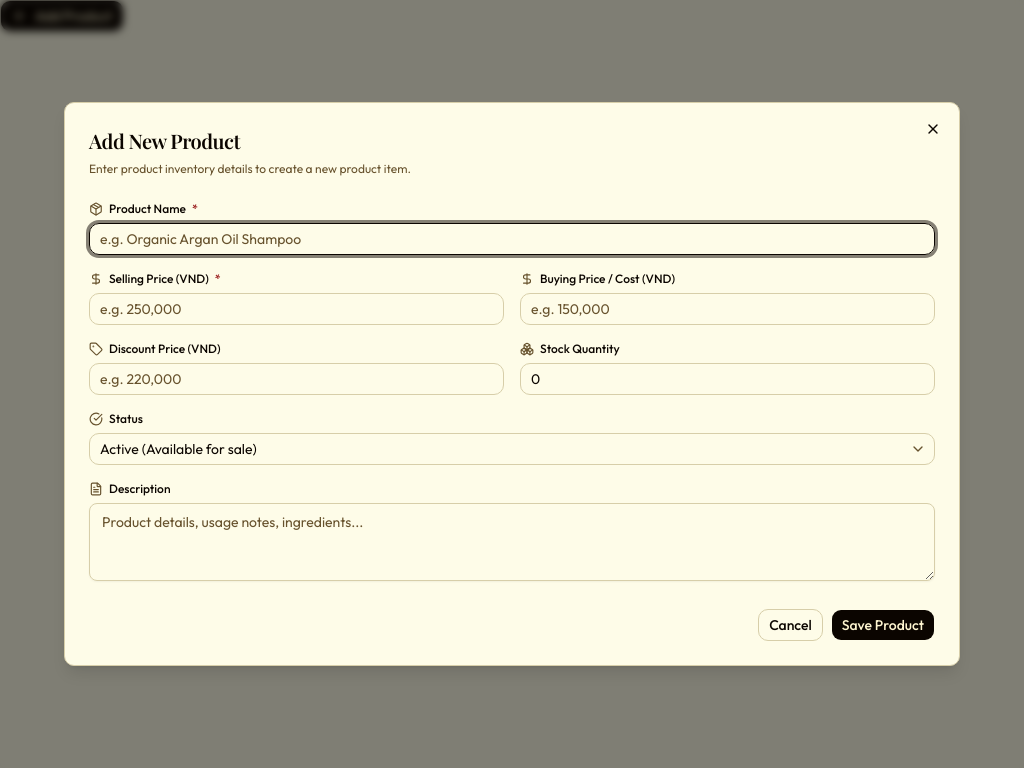
Test: ProductFormDialog - Create Mode › validates quantity must be a non-negative integer
In the field labelled "Product Name *": {"x": 512, "y": 239} [89,223,935,255], type "Hair Styling Gel"
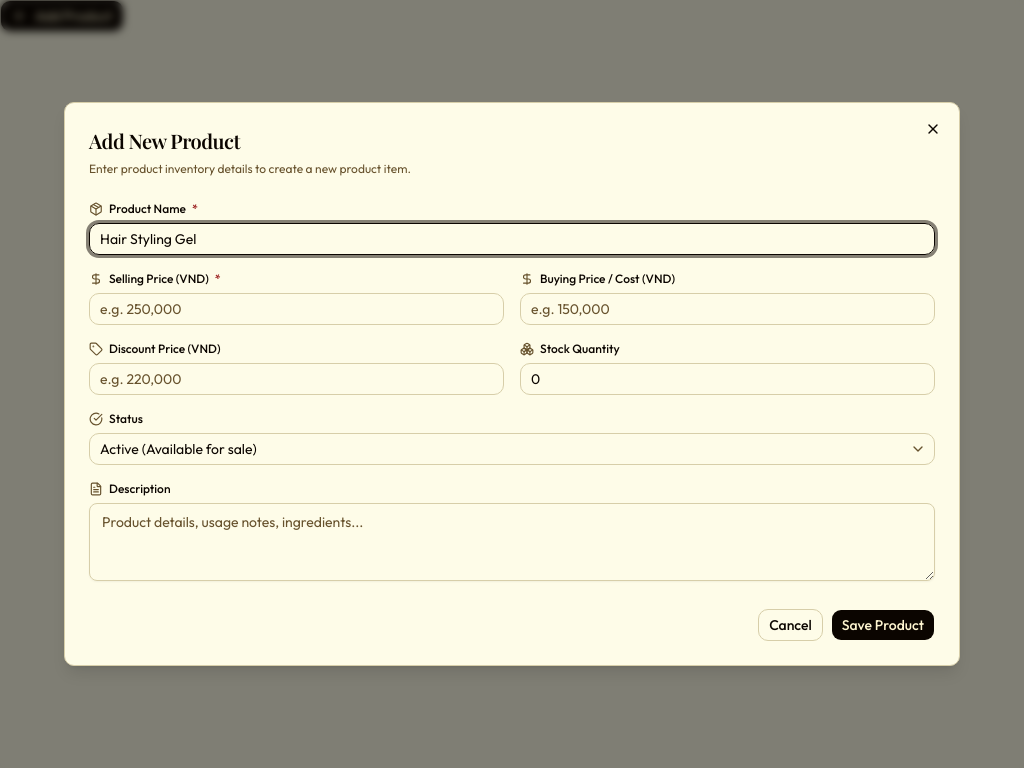
In the field labelled "Selling Price (VND) *": {"x": 296, "y": 309} [89,293,504,325], type "100000"
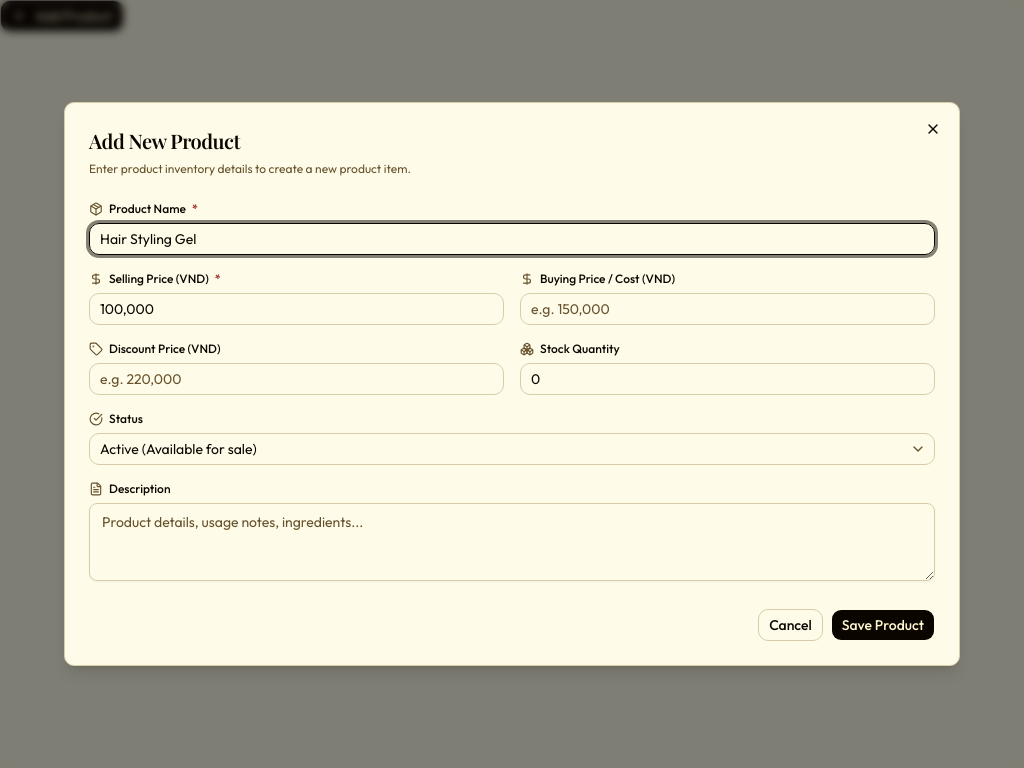
In the number field labelled "Stock Quantity": {"x": 728, "y": 379} [520,363,935,395], type "-5"
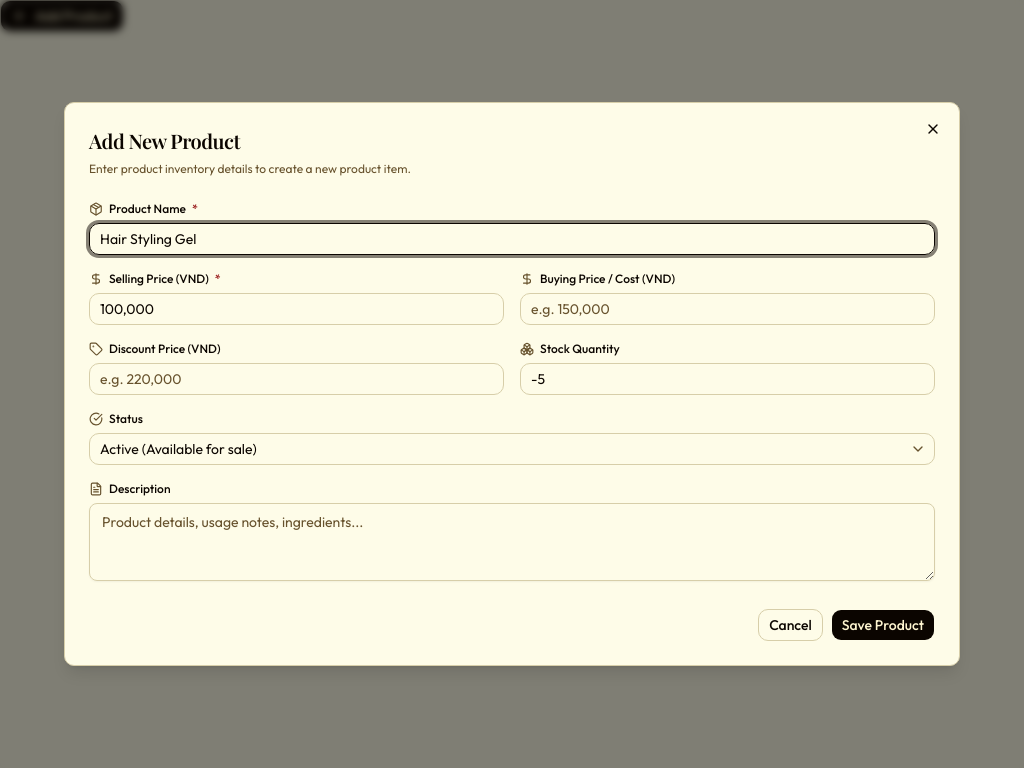
Click the button "Save Product": {"x": 883, "y": 625} [831,609,935,641]
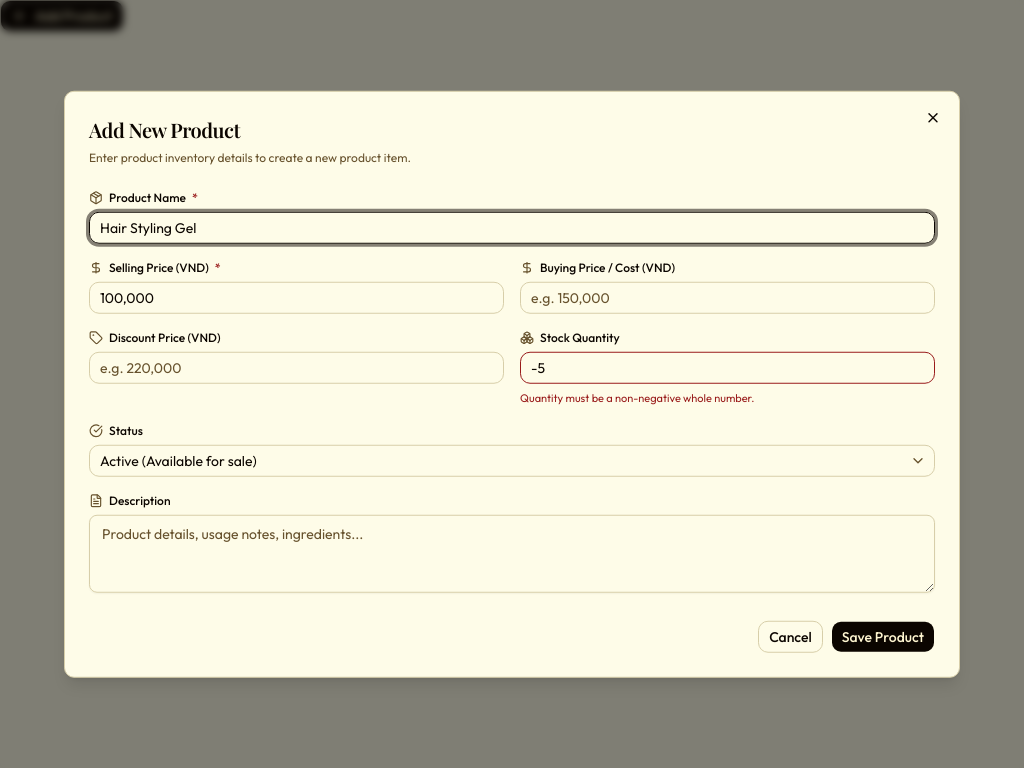
Check: the text "Quantity must be a non-negative whole number." is shown, box [520,391,755,405]
